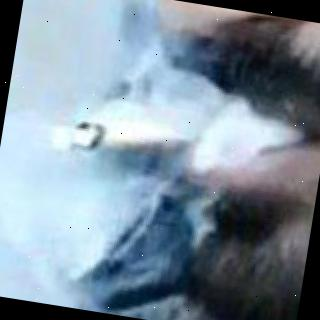smoke: (95, 54, 292, 210)
